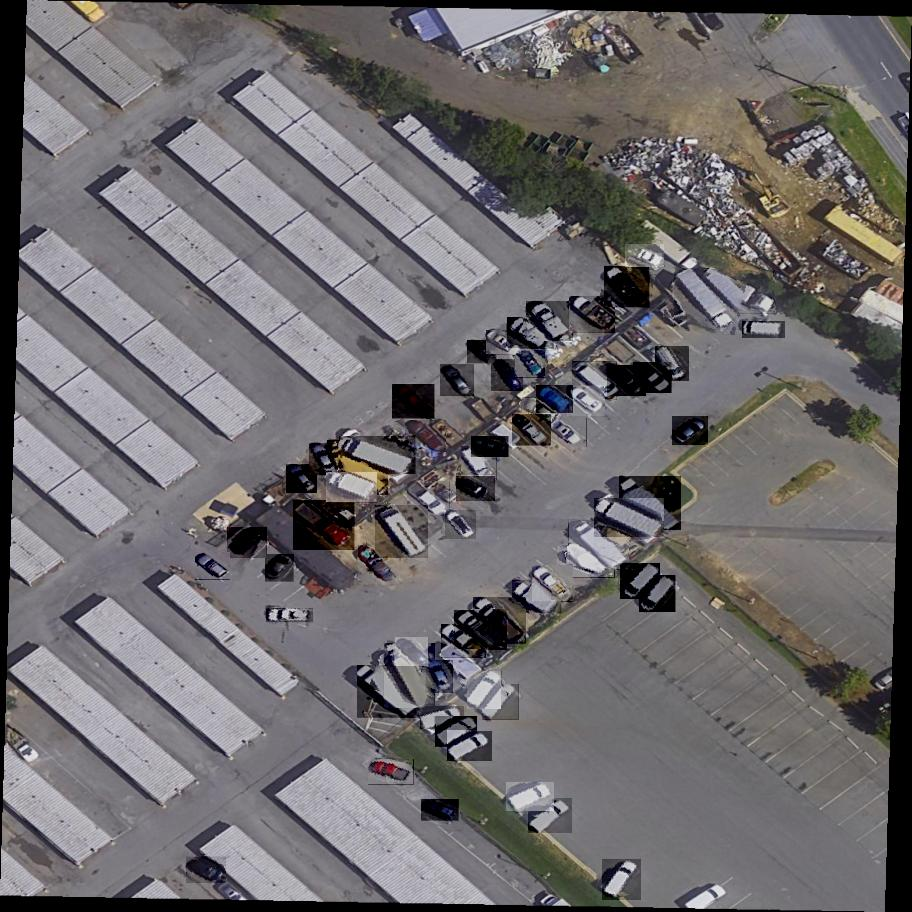large-vehicle: (674, 265, 739, 336), (327, 436, 389, 500), (385, 640, 438, 711), (620, 475, 682, 535), (357, 664, 420, 721), (700, 270, 775, 317), (569, 517, 630, 574), (294, 497, 355, 553), (375, 500, 428, 563), (339, 435, 416, 476), (593, 497, 664, 540), (472, 595, 526, 647), (454, 607, 508, 654), (513, 578, 561, 617), (325, 471, 377, 505)
ship: (556, 545, 615, 580)
small-vehicle: (527, 296, 574, 346), (605, 264, 651, 312), (569, 294, 615, 336), (507, 314, 554, 355), (572, 361, 617, 403), (405, 416, 447, 460), (602, 857, 642, 903), (359, 544, 400, 588), (528, 796, 572, 837), (393, 382, 435, 424), (442, 622, 489, 659), (533, 564, 574, 606), (408, 478, 450, 518), (620, 562, 660, 603), (506, 781, 555, 814), (447, 730, 493, 765), (227, 524, 267, 562), (607, 361, 646, 399), (483, 683, 520, 723), (461, 443, 497, 484), (640, 574, 676, 615), (435, 716, 478, 750), (512, 413, 551, 450), (633, 361, 673, 397), (468, 669, 503, 710), (441, 362, 475, 402), (655, 345, 689, 384), (368, 759, 414, 787), (492, 356, 524, 396), (672, 416, 709, 450), (567, 385, 605, 418), (187, 857, 226, 889), (456, 474, 496, 505), (550, 417, 587, 449), (537, 384, 574, 416), (421, 706, 464, 733), (396, 635, 429, 670), (196, 551, 231, 584), (445, 508, 477, 543), (309, 440, 338, 478), (515, 346, 546, 381), (626, 244, 664, 272), (287, 462, 317, 497), (523, 397, 560, 425), (427, 659, 454, 697), (487, 328, 521, 357), (421, 799, 459, 823), (471, 435, 509, 458), (467, 339, 498, 367), (266, 553, 294, 584), (743, 321, 785, 340), (267, 609, 313, 622)
